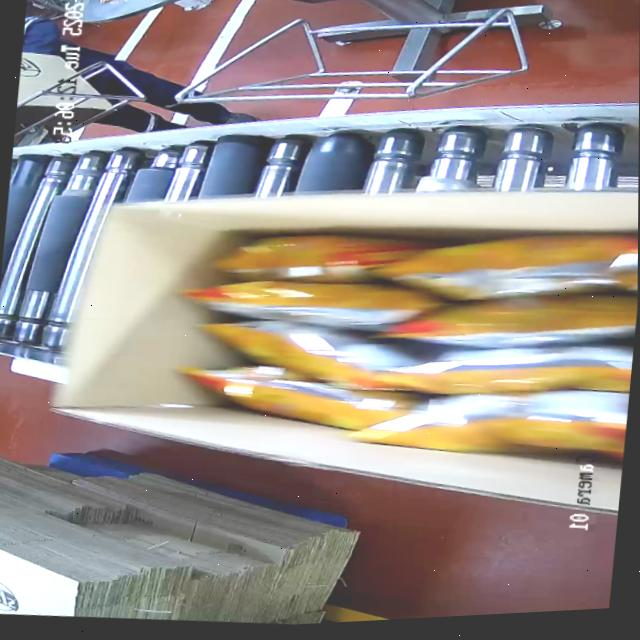FRENCH_CHEESE: (169, 205, 638, 473)
